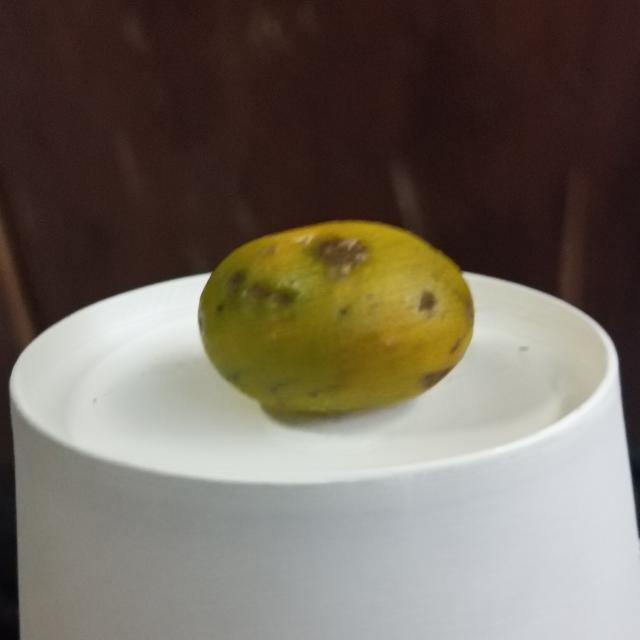black spot: (200, 216, 474, 418)
